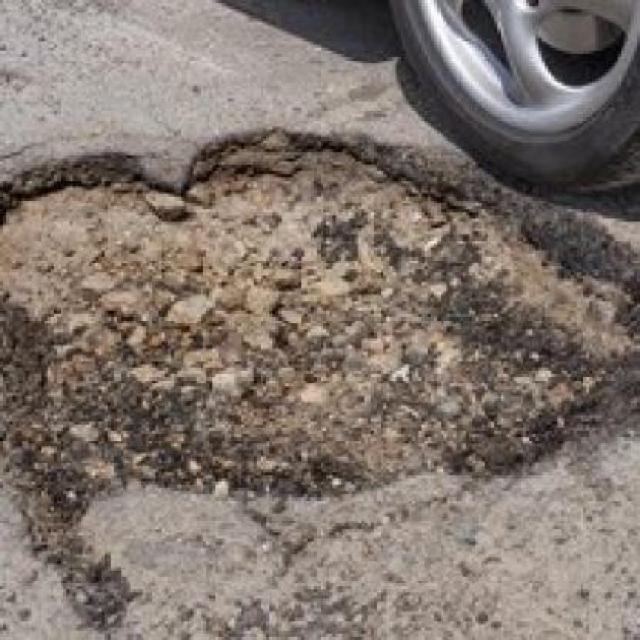pothole: (0, 114, 637, 500)
